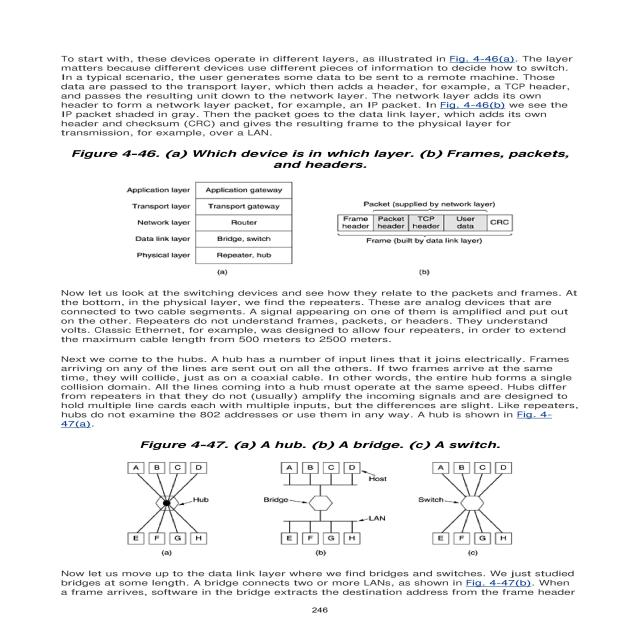diagram: (70, 137, 586, 287), (114, 427, 563, 567)
